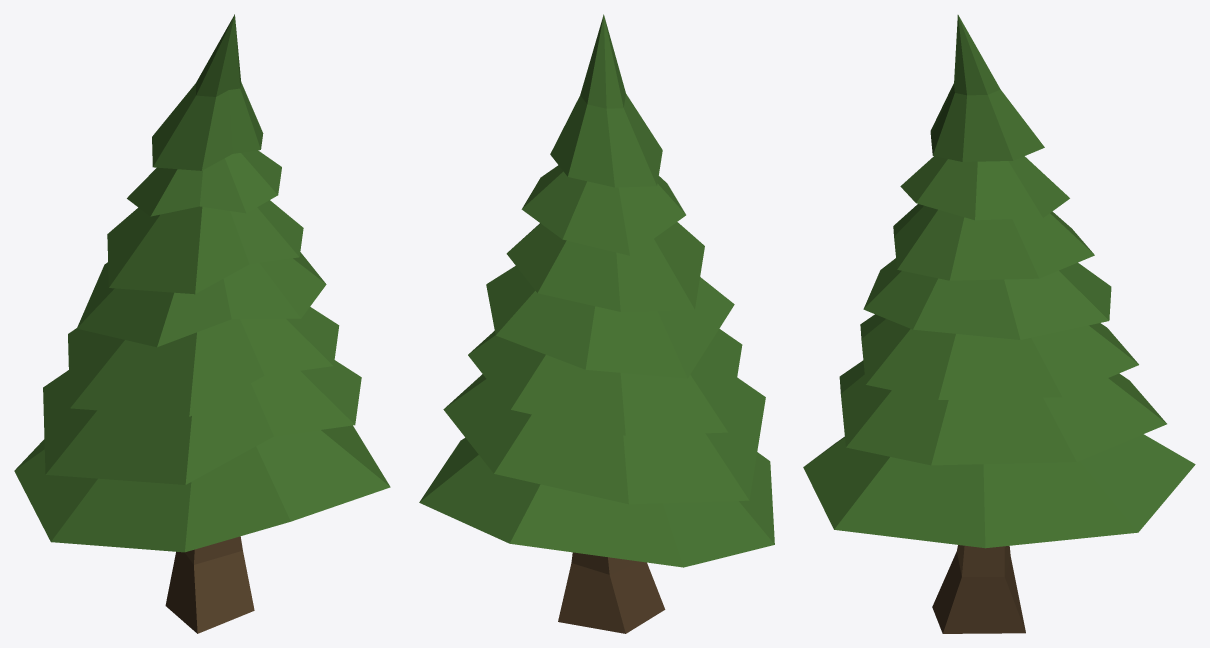
File: tree1.fbx
3 renders of one model, left to right at view 1: azimuth 30°, elevation 25°; view 2: azimuth 150°, elevation 25°; view 3: azimuth 270°, elevation 25°, orthographic. The views are drawn at different scales.
Visible parts, largest first — view 1: Cube; view 2: Cube; view 3: Cube.
Part boxes in pixels (left/top/right/bottom): Cube: left=14, top=14, right=390, bottom=633; Cube: left=419, top=14, right=774, bottom=633; Cube: left=803, top=15, right=1195, bottom=633.
Bounding box in the file's own units: 260 × 480 × 276.
